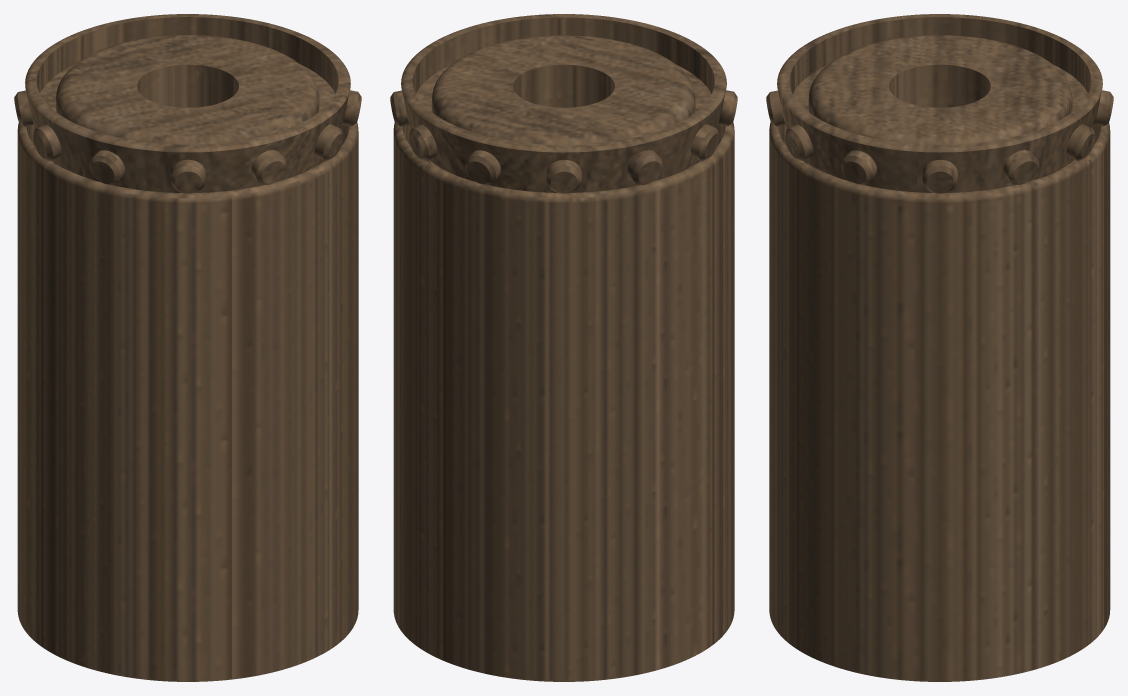
File: RoughWood_Grip.fbx
The picture shows the model from 3 angles, left to right: view 1: azimuth 30°, elevation 25°; view 2: azimuth 150°, elevation 25°; view 3: azimuth 270°, elevation 25°; orthographic projection.
Visible parts, largest first — view 1: Grip NsNa; view 2: Grip NsNa; view 3: Grip NsNa.
Part boxes in pixels (left/top/right/bottom): Grip NsNa: left=14, top=14, right=361, bottom=681; Grip NsNa: left=390, top=14, right=737, bottom=681; Grip NsNa: left=766, top=14, right=1113, bottom=681.
Size of the model in its own units: 2453 by 4120 by 2453.
